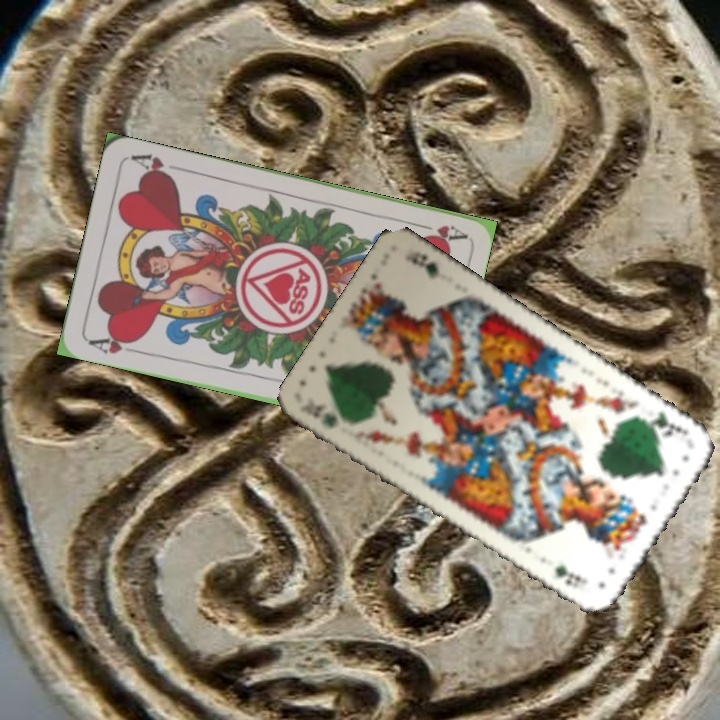GK: (636, 407, 691, 440), (297, 394, 341, 432)
HA: (84, 330, 143, 357), (409, 218, 468, 245)
